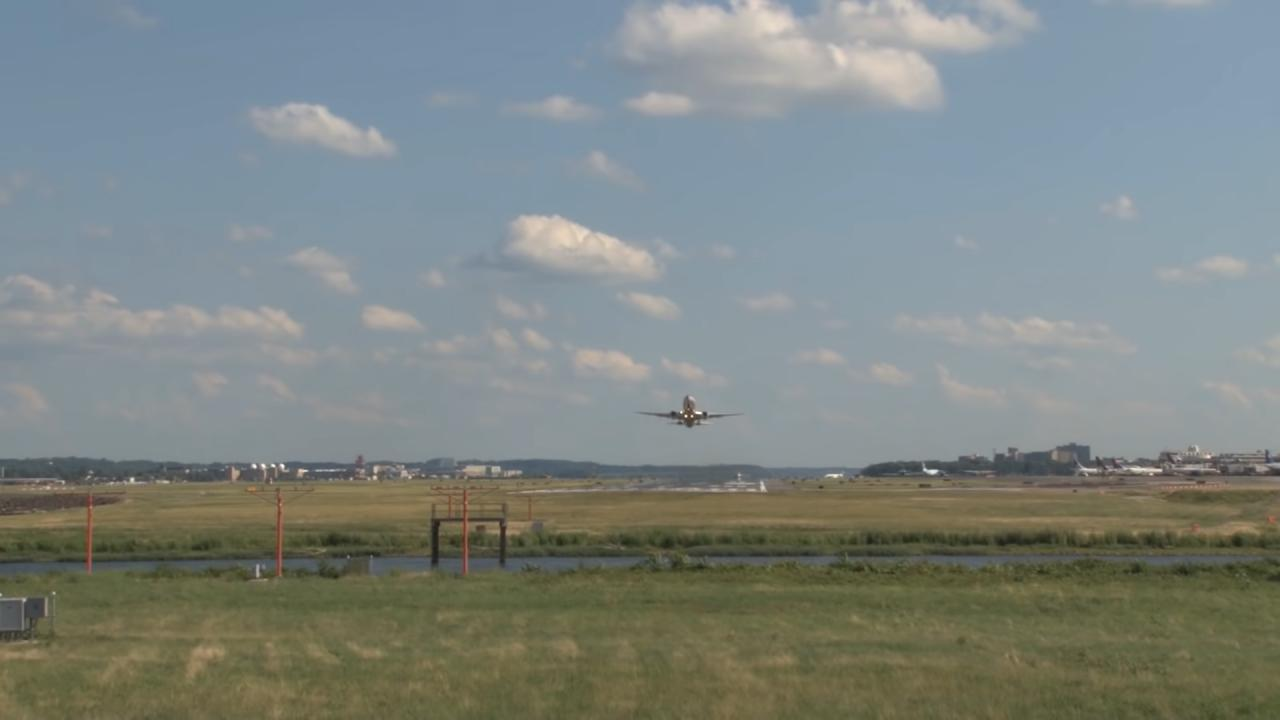Airplane: (626, 382, 752, 440)
